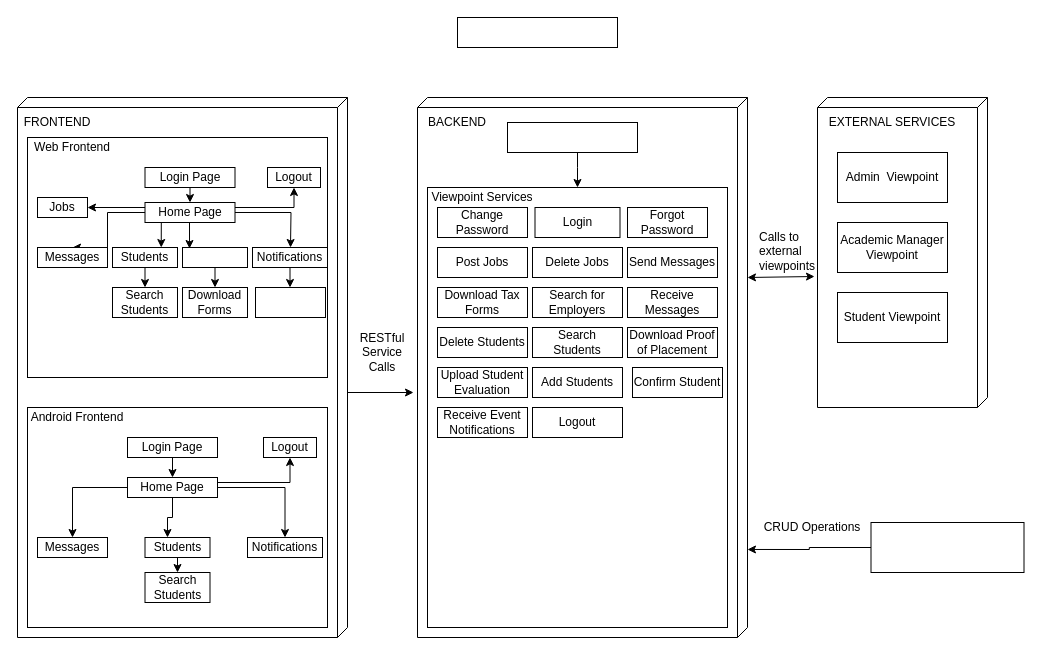
Image size: 1042x655. Some labels were removed from this diagram. The centre of each missing label's shape, as x and y in pixels:
"Employer Viewpoint Architecture" goes at (537,32).
"Event Notifications" goes at (290,302).
"MyCo-op Controller" goes at (572,137).
"Persistence Layer" goes at (947,547).
"Tax Forms" goes at (215,257).
